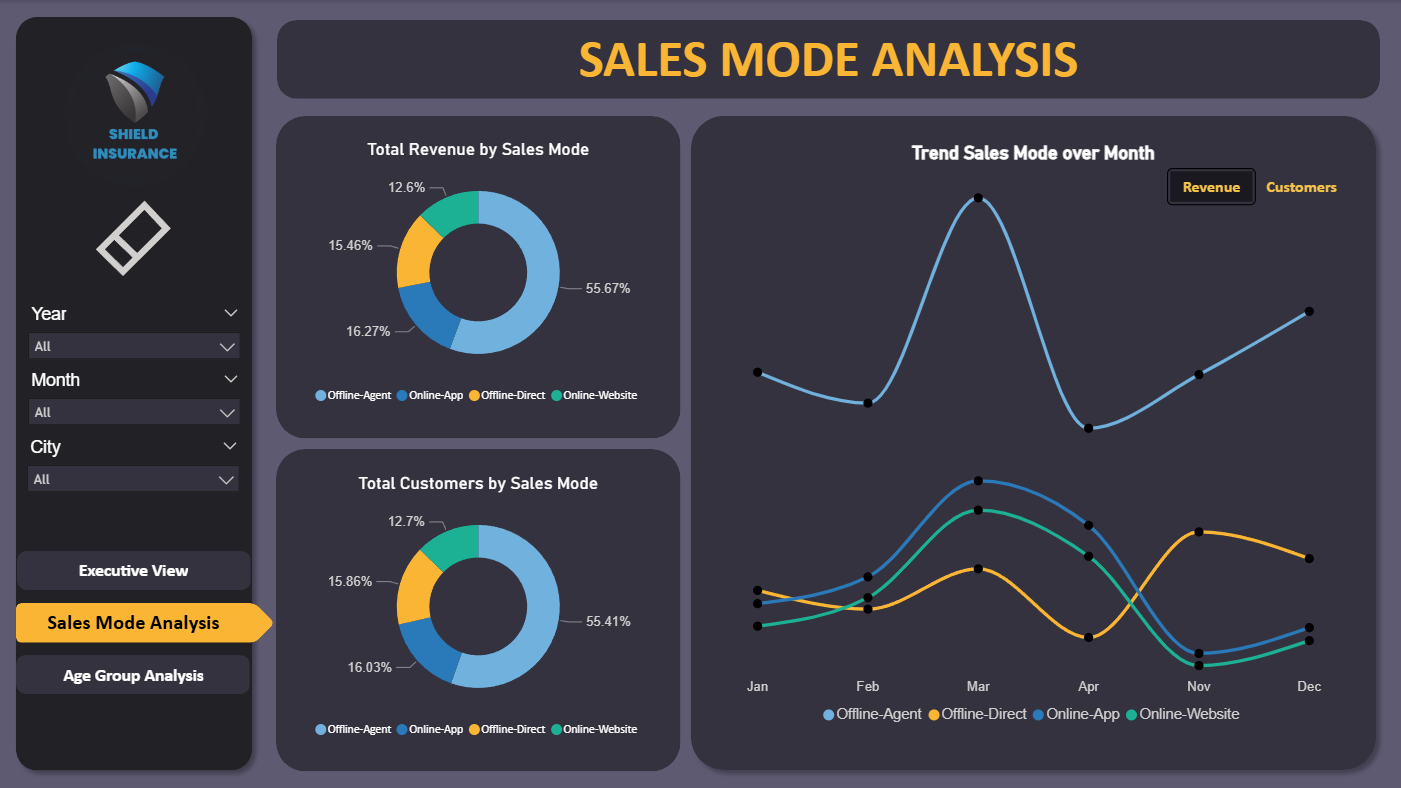

The page's visual inventory and layout, read from the dashboard file:
{"tool":"powerbi","page":{"name":"sales mode analysis","canvas":[1280,720],"ordinal":1},"visuals":[{"type":"shape","box":[252.9,409,368.8,294],"z":0},{"type":"shape","box":[252.9,105.9,368.8,294],"z":1000},{"type":"shape","box":[253.2,18.2,1005.6,71.9],"z":2000},{"type":"textbox","box":[253.2,18.2,1005.6,71.9],"z":3000},{"type":"shape","box":[6.8,6.8,233.4,705.2],"z":4000},{"type":"image","box":[16.5,33.1,215,144],"z":5000},{"type":"shape","box":[621.7,96.8,642.7,614.4],"z":9000},{"type":"donutChart","fields":{"Y":["Key Measures.Total Revenue"],"Category":["fact_premiums.sales_mode"]},"box":[270.2,126.9,334.2,252],"z":10000},{"type":"donutChart","fields":{"Y":["Key Measures.Total Customers"],"Category":["fact_premiums.sales_mode"]},"box":[270.2,430.9,334.2,252],"z":11000},{"type":"lineChart","title":"Trend Sales Mode over Month","fields":{"Category":["dim_date.month"],"Series":["fact_premiums.sales_mode"],"Y":["Key Measures.Total Customers"]},"box":[646.4,128.7,593.4,542.3],"z":12000},{"type":"lineChart","title":"Trend Sales Mode over Month","fields":{"Category":["dim_date.month"],"Series":["fact_premiums.sales_mode"],"Y":["Key Measures.Total Revenue"]},"box":[646.4,128.7,593.4,542.3],"z":13000},{"type":"actionButton","title":"Revenue","box":[1064.5,153.4,81.3,33.8],"z":14000},{"type":"actionButton","title":"Revenue","box":[1145.8,154.3,83.1,32],"z":15000},{"type":"slicer","fields":{"Values":["dim_date.year"]},"box":[16.4,272.6,214.2,72.9],"z":18000},{"type":"slicer","fields":{"Values":["dim_date.month"]},"box":[16.4,332.8,214.2,72],"z":19000},{"type":"actionButton","box":[15.5,178.7,214.2,78.4],"z":20000},{"type":"slicer","fields":{"Values":["dim_customer.city"]},"box":[15.5,393.8,214.2,72],"z":21000},{"type":"shape","box":[15.5,549.3,236.1,36.5],"z":22000},{"type":"shape","box":[16.4,502.3,213.3,35.6],"z":23000},{"type":"shape","box":[15.5,597.2,213.3,35.6],"z":24000},{"type":"actionButton","box":[16.4,501.4,212.4,36.5],"z":25000},{"type":"actionButton","box":[16.4,548.8,212.4,36.5],"z":26000},{"type":"actionButton","box":[16.4,597.2,212.4,36.5],"z":27000}]}

Visuals, with their boxes in screenshot pixels (x1, y1, x2, y2), scaled from the page's 1280x720 canvas onto the 1401x788 screenshot:
shape: pyautogui.locateOnScreen(277, 448, 680, 769)
shape: pyautogui.locateOnScreen(277, 116, 680, 438)
shape: pyautogui.locateOnScreen(277, 20, 1378, 99)
textbox: pyautogui.locateOnScreen(277, 20, 1378, 99)
shape: pyautogui.locateOnScreen(7, 7, 263, 779)
image: pyautogui.locateOnScreen(18, 36, 253, 194)
shape: pyautogui.locateOnScreen(680, 106, 1384, 778)
donutChart - Key Measures.Total Revenue x fact_premiums.sales_mode: pyautogui.locateOnScreen(296, 139, 662, 415)
donutChart - Key Measures.Total Customers x fact_premiums.sales_mode: pyautogui.locateOnScreen(296, 472, 662, 747)
"Trend Sales Mode over Month" lineChart: pyautogui.locateOnScreen(708, 141, 1357, 734)
"Trend Sales Mode over Month" lineChart: pyautogui.locateOnScreen(708, 141, 1357, 734)
"Revenue" actionButton: pyautogui.locateOnScreen(1165, 168, 1254, 205)
"Revenue" actionButton: pyautogui.locateOnScreen(1254, 169, 1345, 204)
slicer - dim_date.year: pyautogui.locateOnScreen(18, 298, 252, 378)
slicer - dim_date.month: pyautogui.locateOnScreen(18, 364, 252, 443)
actionButton: pyautogui.locateOnScreen(17, 196, 251, 281)
slicer - dim_customer.city: pyautogui.locateOnScreen(17, 431, 251, 510)
shape: pyautogui.locateOnScreen(17, 601, 275, 641)
shape: pyautogui.locateOnScreen(18, 550, 251, 589)
shape: pyautogui.locateOnScreen(17, 654, 250, 693)
actionButton: pyautogui.locateOnScreen(18, 549, 250, 589)
actionButton: pyautogui.locateOnScreen(18, 601, 250, 641)
actionButton: pyautogui.locateOnScreen(18, 654, 250, 694)
